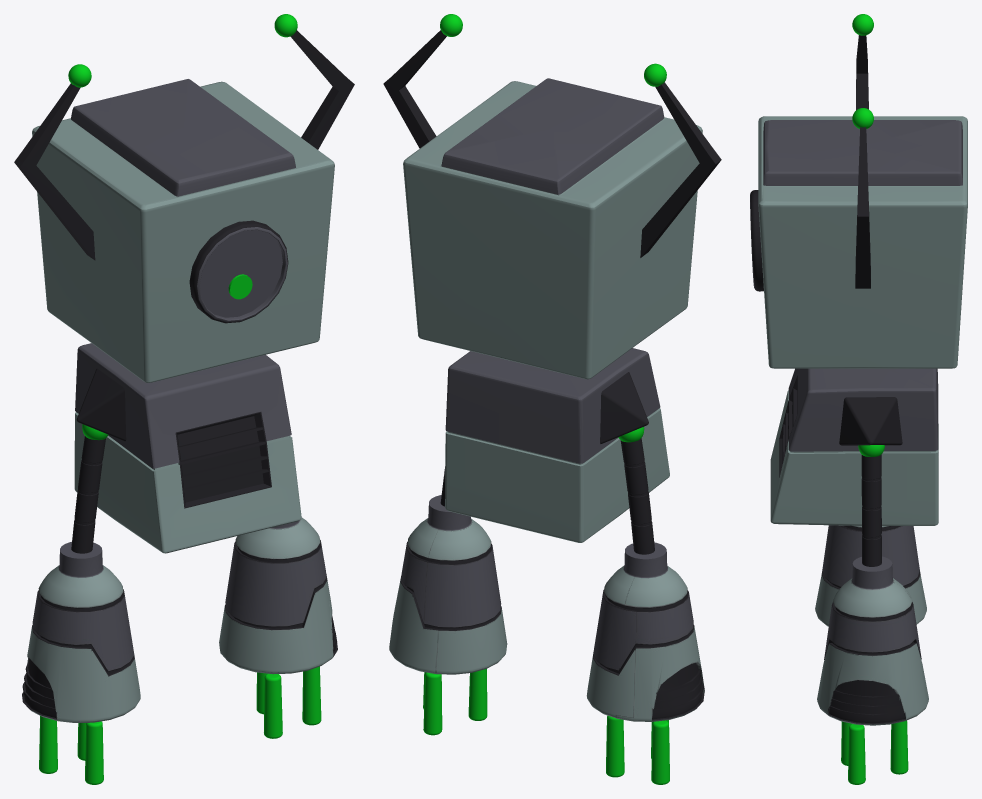
Rendered from T-T1Mtextured.fbx.
3 renders of one model, left to right at view 1: azimuth 30°, elevation 25°; view 2: azimuth 150°, elevation 25°; view 3: azimuth 270°, elevation 25°, orthographic. The views are drawn at different scales.
Parts seen in each view (by area): view 1: head, Body, handR, handL, eye, antennaR, armR, antennaL, shoulderR, Fingers (×2), fingerL2, fingerR1; view 2: head, Body, handR, handL, antennaR, armR, antennaL, shoulderR, Fingers, fingerL1, fingerR2, fingerL2; view 3: head, Body, handL, handR, shoulderR, armL, antennaL, Fingers, eye, fingerL1, antennaR.
Boxes of the visible parts, x1,y1,x2,y2 form: head: (32, 79, 334, 382); Body: (74, 343, 301, 553); handR: (22, 542, 140, 722); handL: (219, 517, 337, 674); eye: (189, 220, 288, 323); antennaR: (14, 83, 95, 260); armR: (71, 436, 105, 553); antennaL: (290, 30, 354, 149); shoulderR: (76, 368, 126, 441); Fingers (×2): (39, 666, 321, 773); fingerL2: (264, 673, 282, 738); fingerR1: (85, 721, 103, 784); head: (403, 78, 702, 379); Body: (445, 348, 669, 542); handR: (586, 542, 704, 721); handL: (389, 495, 507, 674); antennaR: (640, 82, 721, 257); armR: (620, 438, 654, 554); antennaL: (383, 30, 446, 148); shoulderR: (600, 372, 648, 443); Fingers: (651, 720, 669, 784); fingerL1: (423, 672, 442, 735); fingerR2: (606, 715, 624, 777); fingerL2: (468, 669, 487, 720); head: (758, 116, 967, 368); Body: (770, 368, 938, 525); handL: (817, 556, 928, 725); handR: (815, 525, 926, 626); shoulderR: (839, 397, 902, 445); armL: (861, 454, 881, 566); antennaL: (855, 127, 870, 288); Fingers: (848, 724, 865, 784); eye: (750, 190, 763, 291); fingerL1: (890, 720, 908, 774); antennaR: (856, 35, 868, 110).
Size of the model in its own units: 3.7 by 7.49 by 2.23.
Materials: 6 (6 with a texture image).
